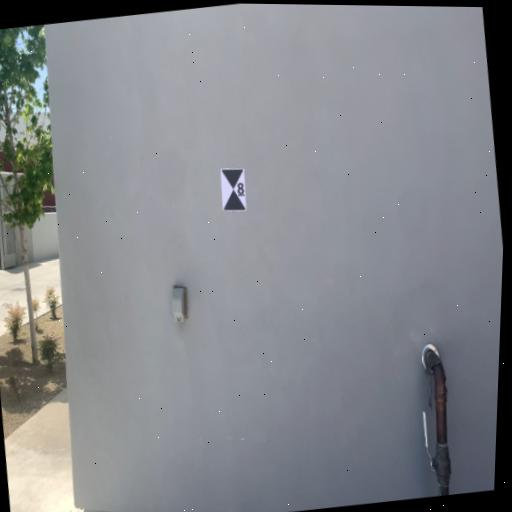target8: (219, 165, 250, 215)
